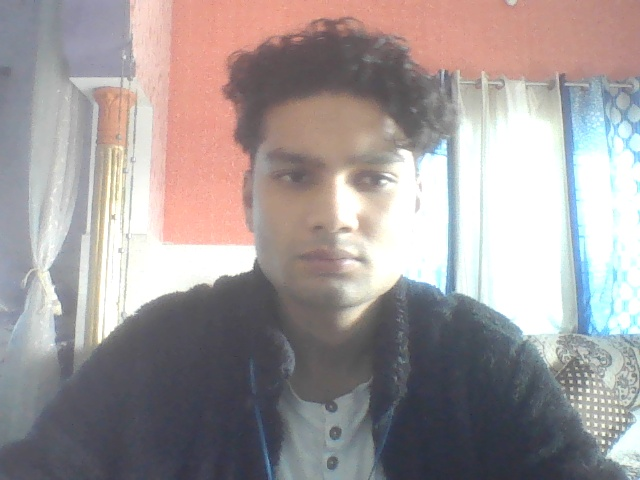real: (214, 14, 437, 330)
